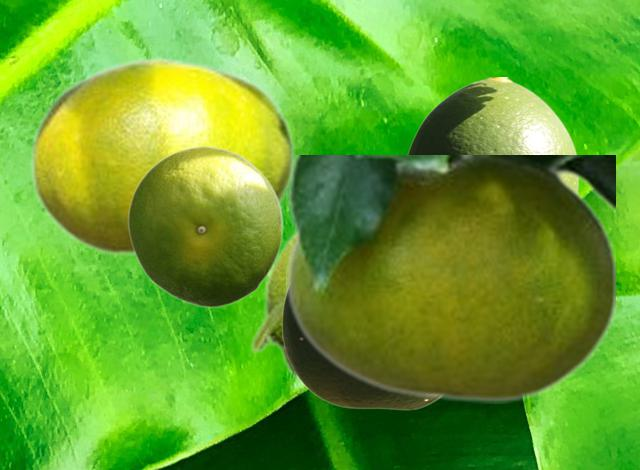dalandan: (286, 155, 614, 402), (29, 56, 294, 256), (127, 145, 282, 307), (407, 77, 578, 189), (281, 293, 438, 409), (248, 231, 309, 391)
